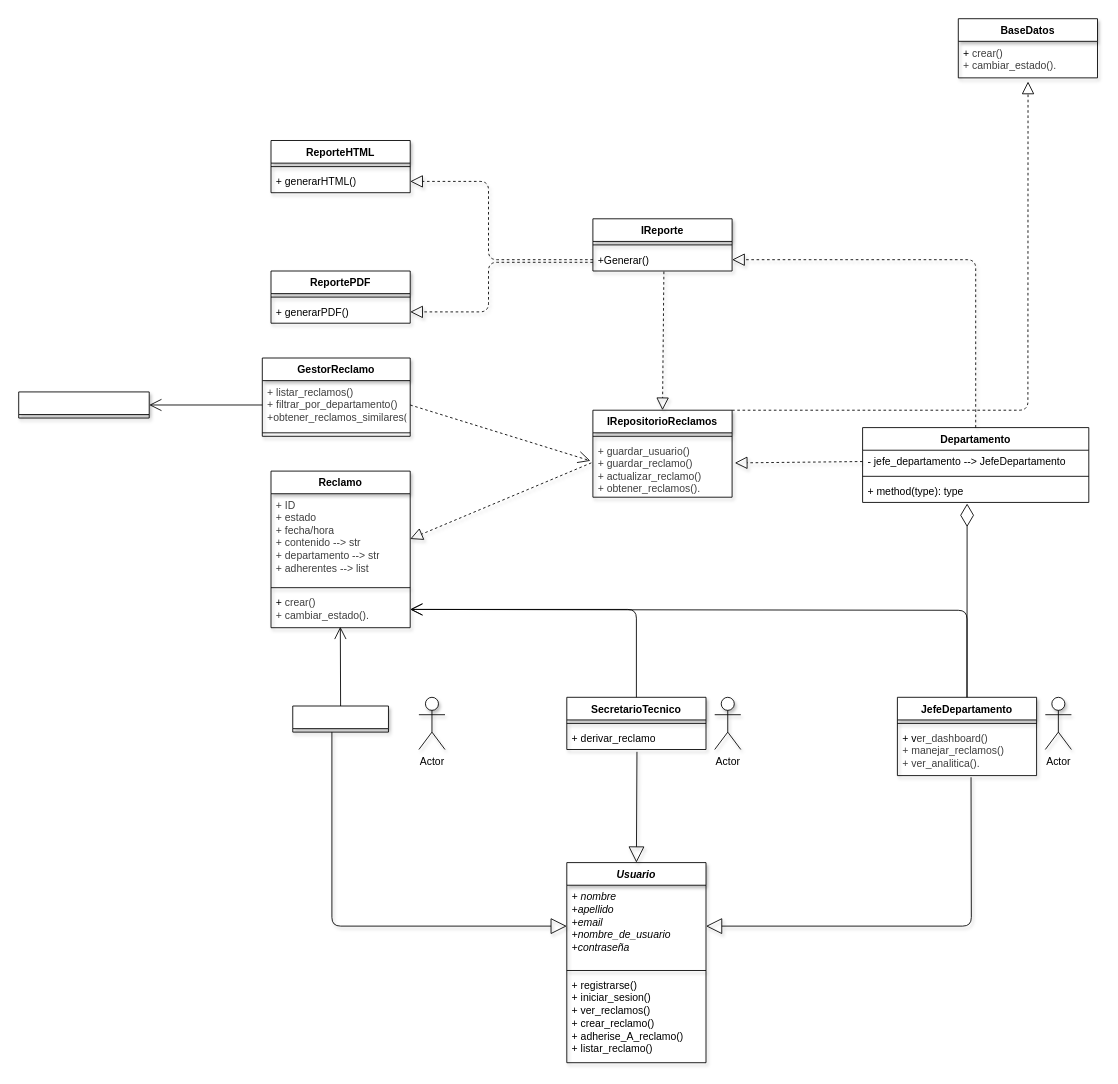
Image size: 1118x1084. Some labels were removed from this diagram. The shapes that lost their labels are listed below. From the top down, each one's centre as x and y in pixels, then its label:
At (84,406): "ClasificadorReclamo".
At (341,720): "UsuarioFinal".
